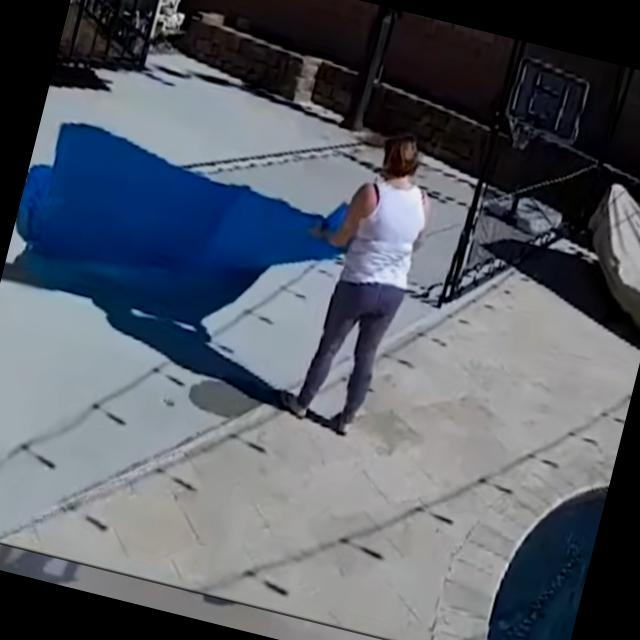person: (262, 112, 450, 444)
